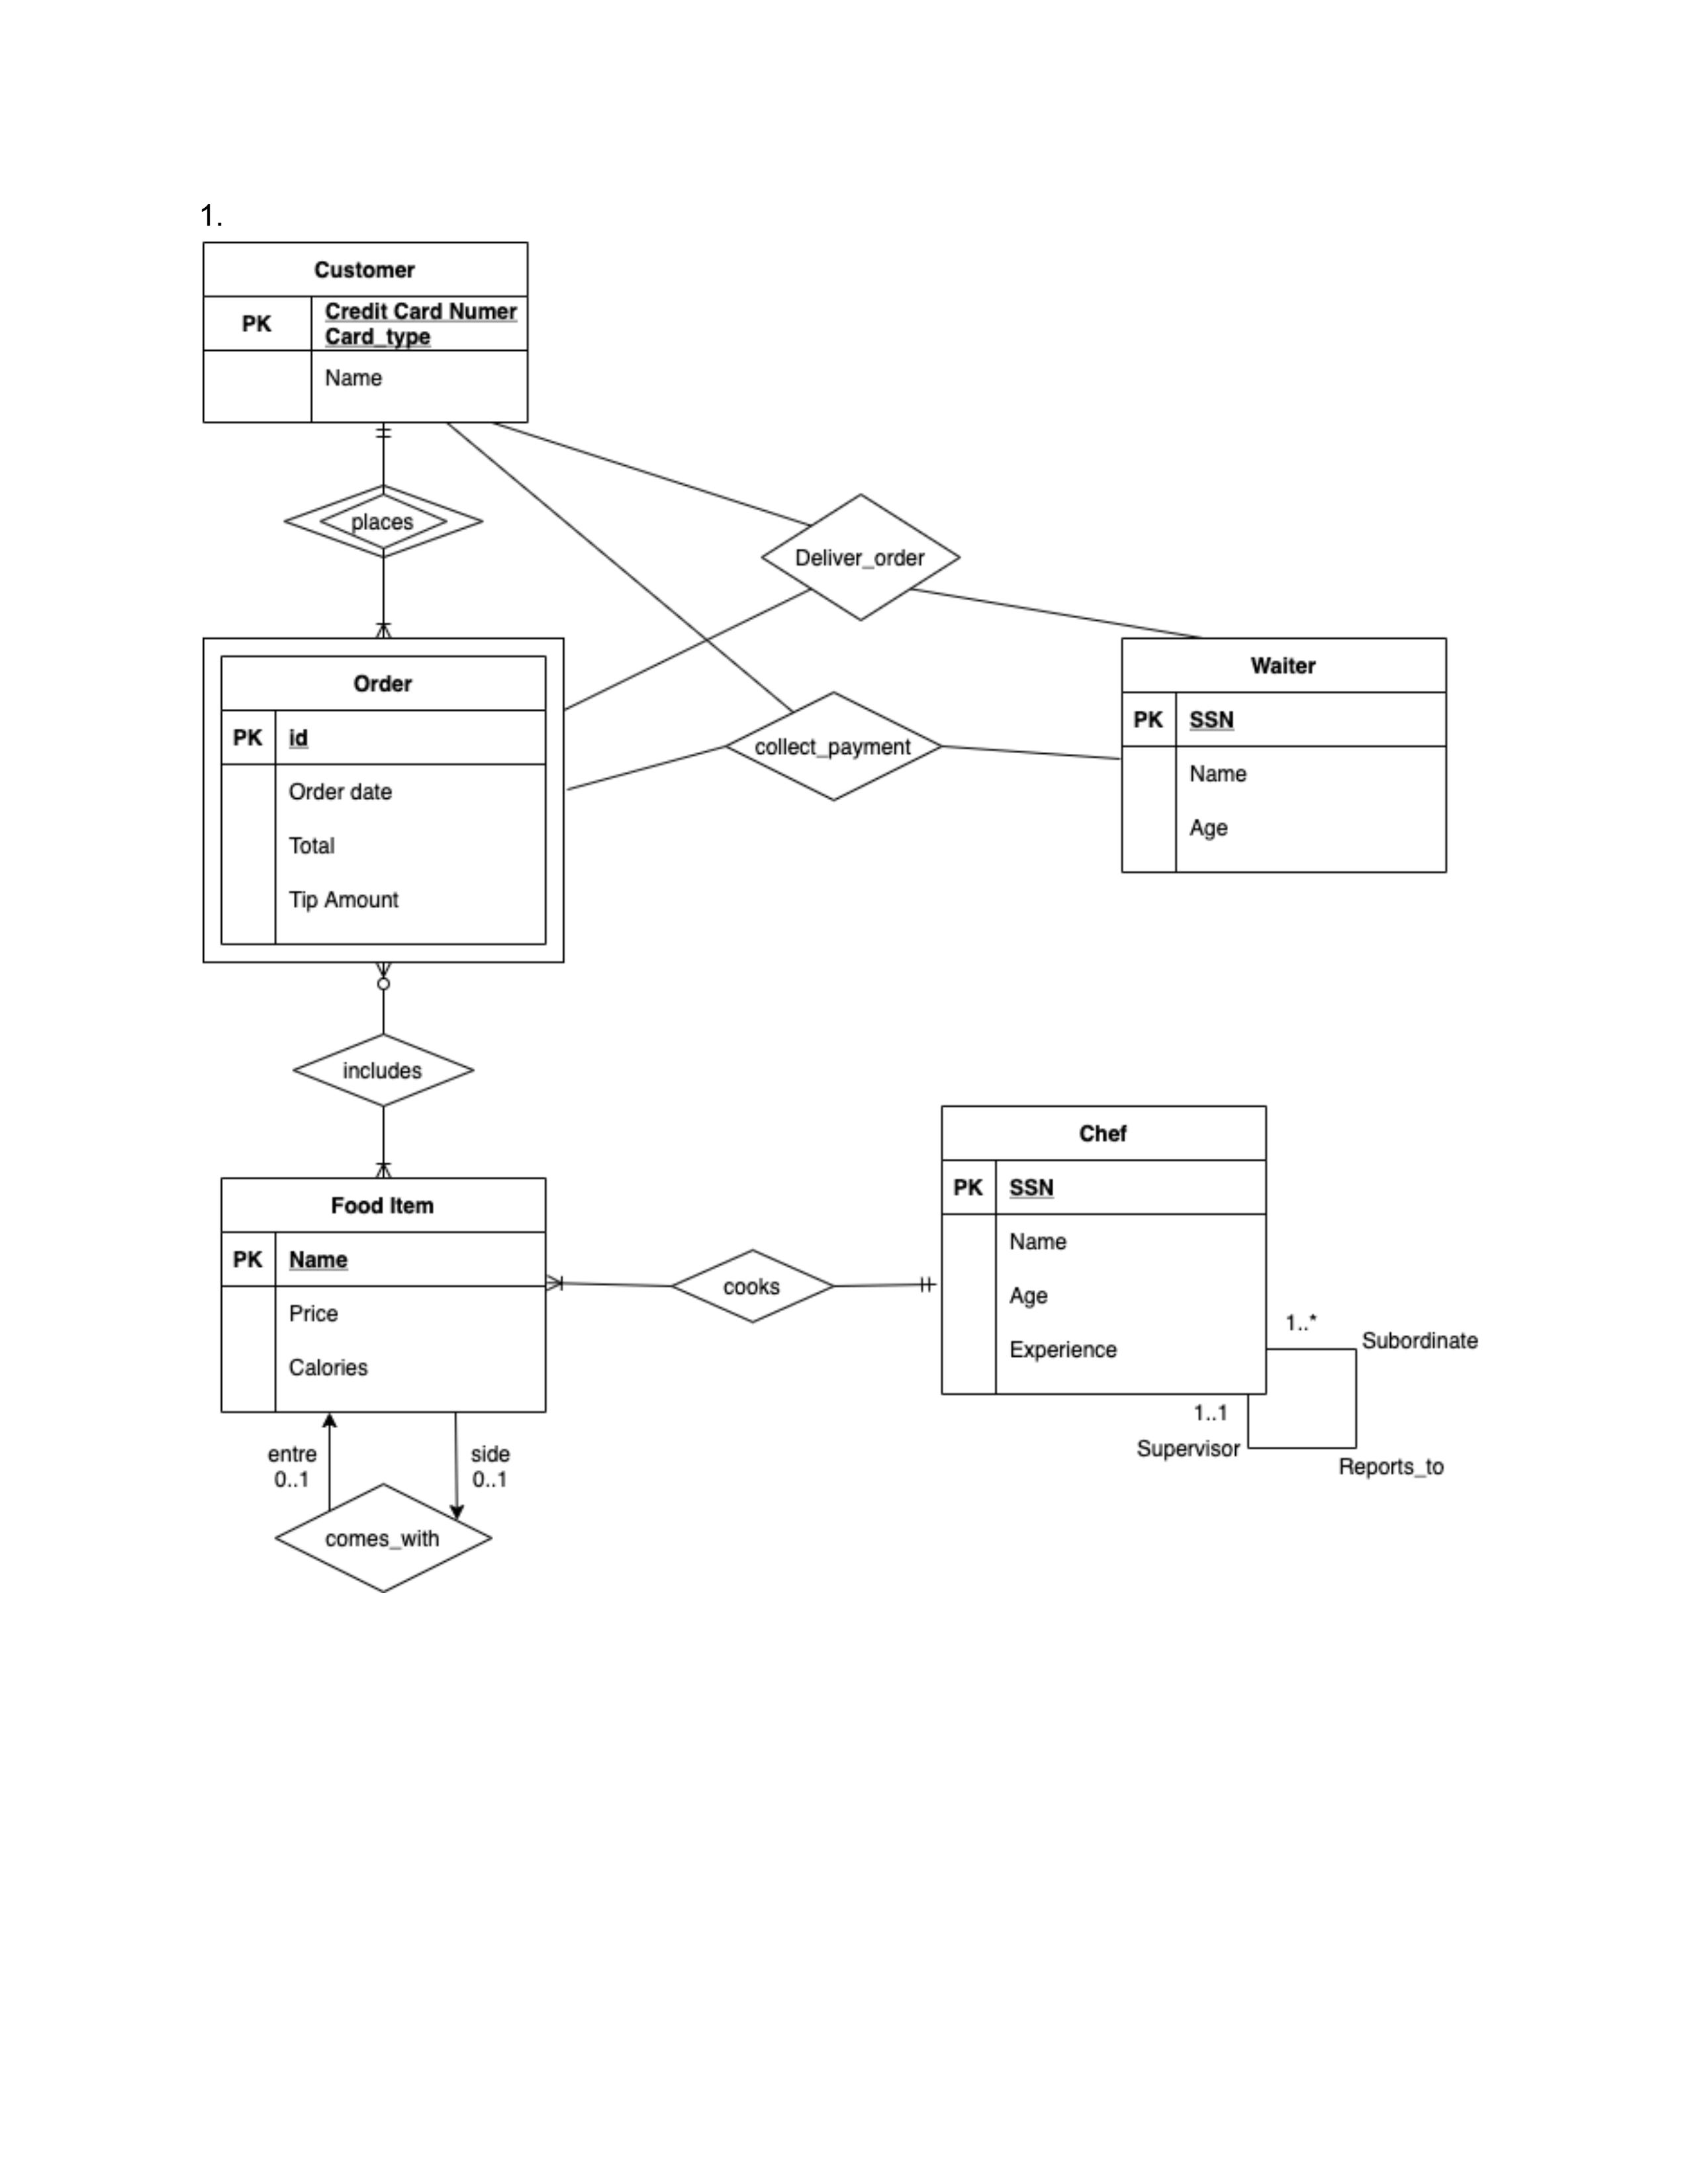Entity: (216, 652, 551, 948), (938, 1104, 1271, 1399), (216, 1174, 551, 1416), (1119, 635, 1450, 877), (200, 239, 530, 425)
Relationship: (759, 491, 965, 624), (723, 690, 942, 805), (273, 1484, 493, 1594), (282, 484, 484, 558), (291, 1030, 479, 1108), (670, 1246, 833, 1324)
